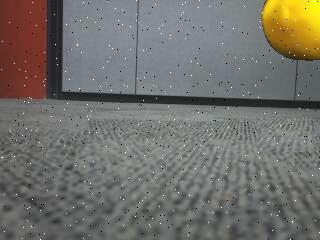Lemon: (261, 1, 320, 63)
